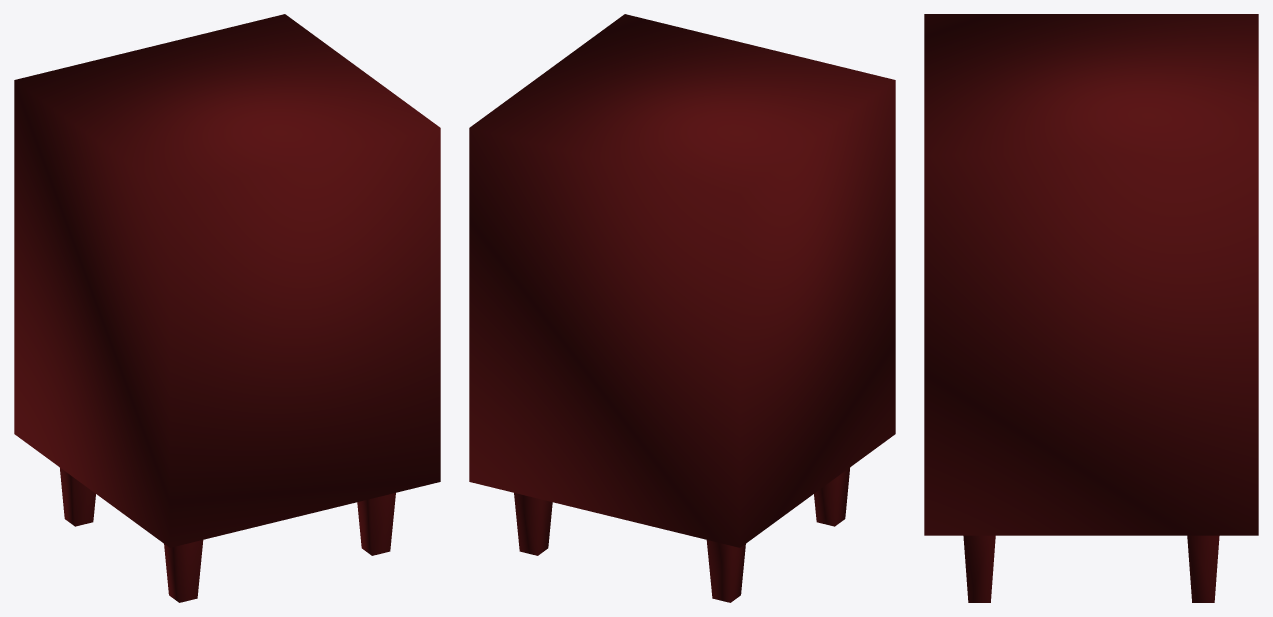
Rendered from Shelve_Bed_Collider.fbx.
3 views of the same model, side by side, from view 1: azimuth 30°, elevation 25°; view 2: azimuth 150°, elevation 25°; view 3: azimuth 270°, elevation 25° (orthographic). The views are drawn at different scales.
Visible parts, largest first — view 1: Shelve_Bed_Collider; view 2: Shelve_Bed_Collider; view 3: Shelve_Bed_Collider.
Part boxes in pixels (x1,y1,x2,y2): Shelve_Bed_Collider: [14, 14, 440, 602]; Shelve_Bed_Collider: [469, 14, 895, 602]; Shelve_Bed_Collider: [924, 14, 1258, 602].
Size of the model in its own units: 40.19 by 61.16 by 40.
